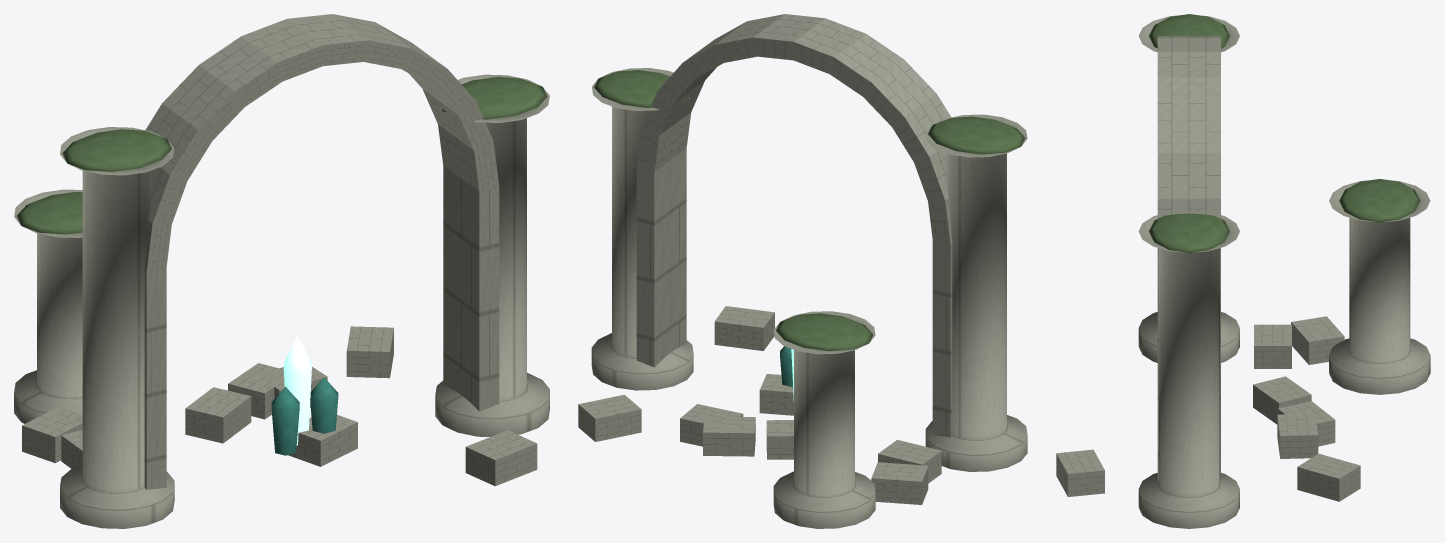
The model's file is ruins.glb.
3 views of the same model, side by side, from view 1: azimuth 30°, elevation 25°; view 2: azimuth 150°, elevation 25°; view 3: azimuth 270°, elevation 25° (orthographic). The views are drawn at different scales.
Parts seen in each view (by area): view 1: ruins; view 2: ruins; view 3: ruins.
Part boxes in pixels (x1,y1,x2,y2): ruins: [14, 14, 549, 528]; ruins: [578, 14, 1027, 528]; ruins: [1056, 14, 1430, 528].
Size of the model in its own units: 3.8 by 3.26 by 2.95.
4 materials, 4 textured.
